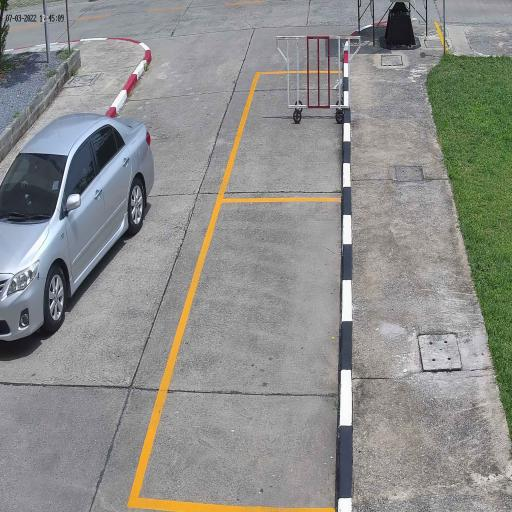car: (0, 112, 155, 343)
